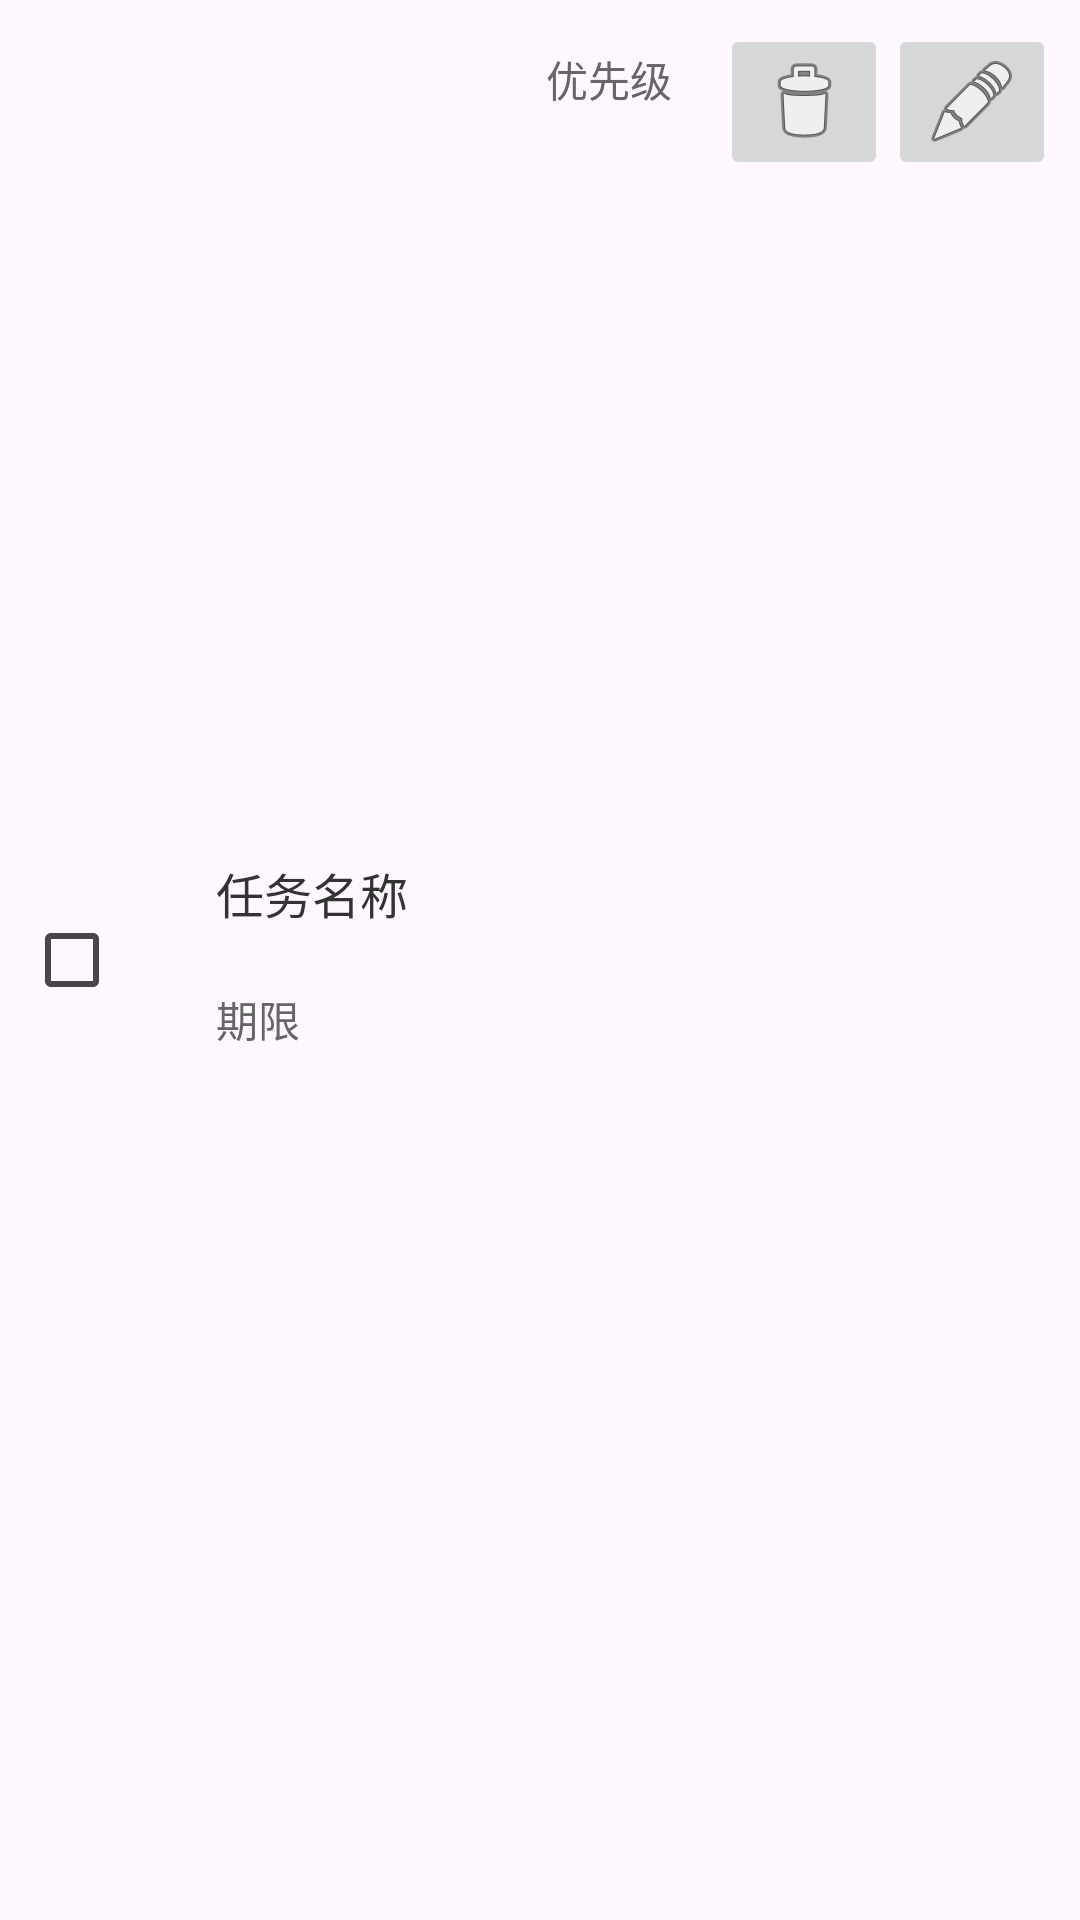

Icon bounding boxes for this 1080*1920 phone screenshot, format {"left": x1, "top": y1, "right": x2, "bottom": y2}:
删除任务: {"left": 732, "top": 42, "right": 876, "bottom": 162}
编辑任务: {"left": 900, "top": 42, "right": 1044, "bottom": 162}
